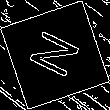N_SE: (23, 26, 87, 84)
